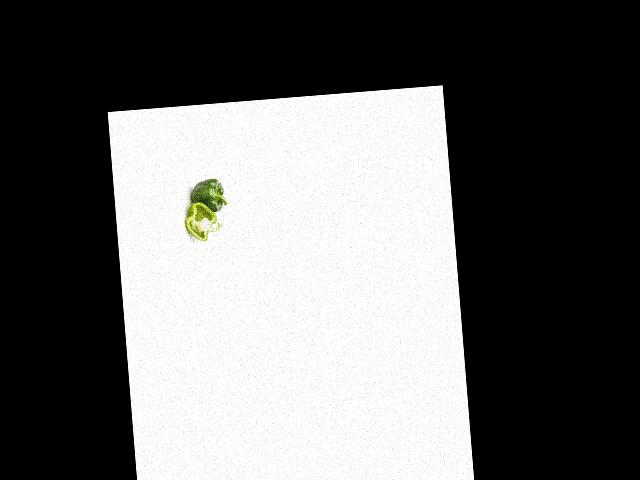bell_pepper: (184, 198, 225, 244)
